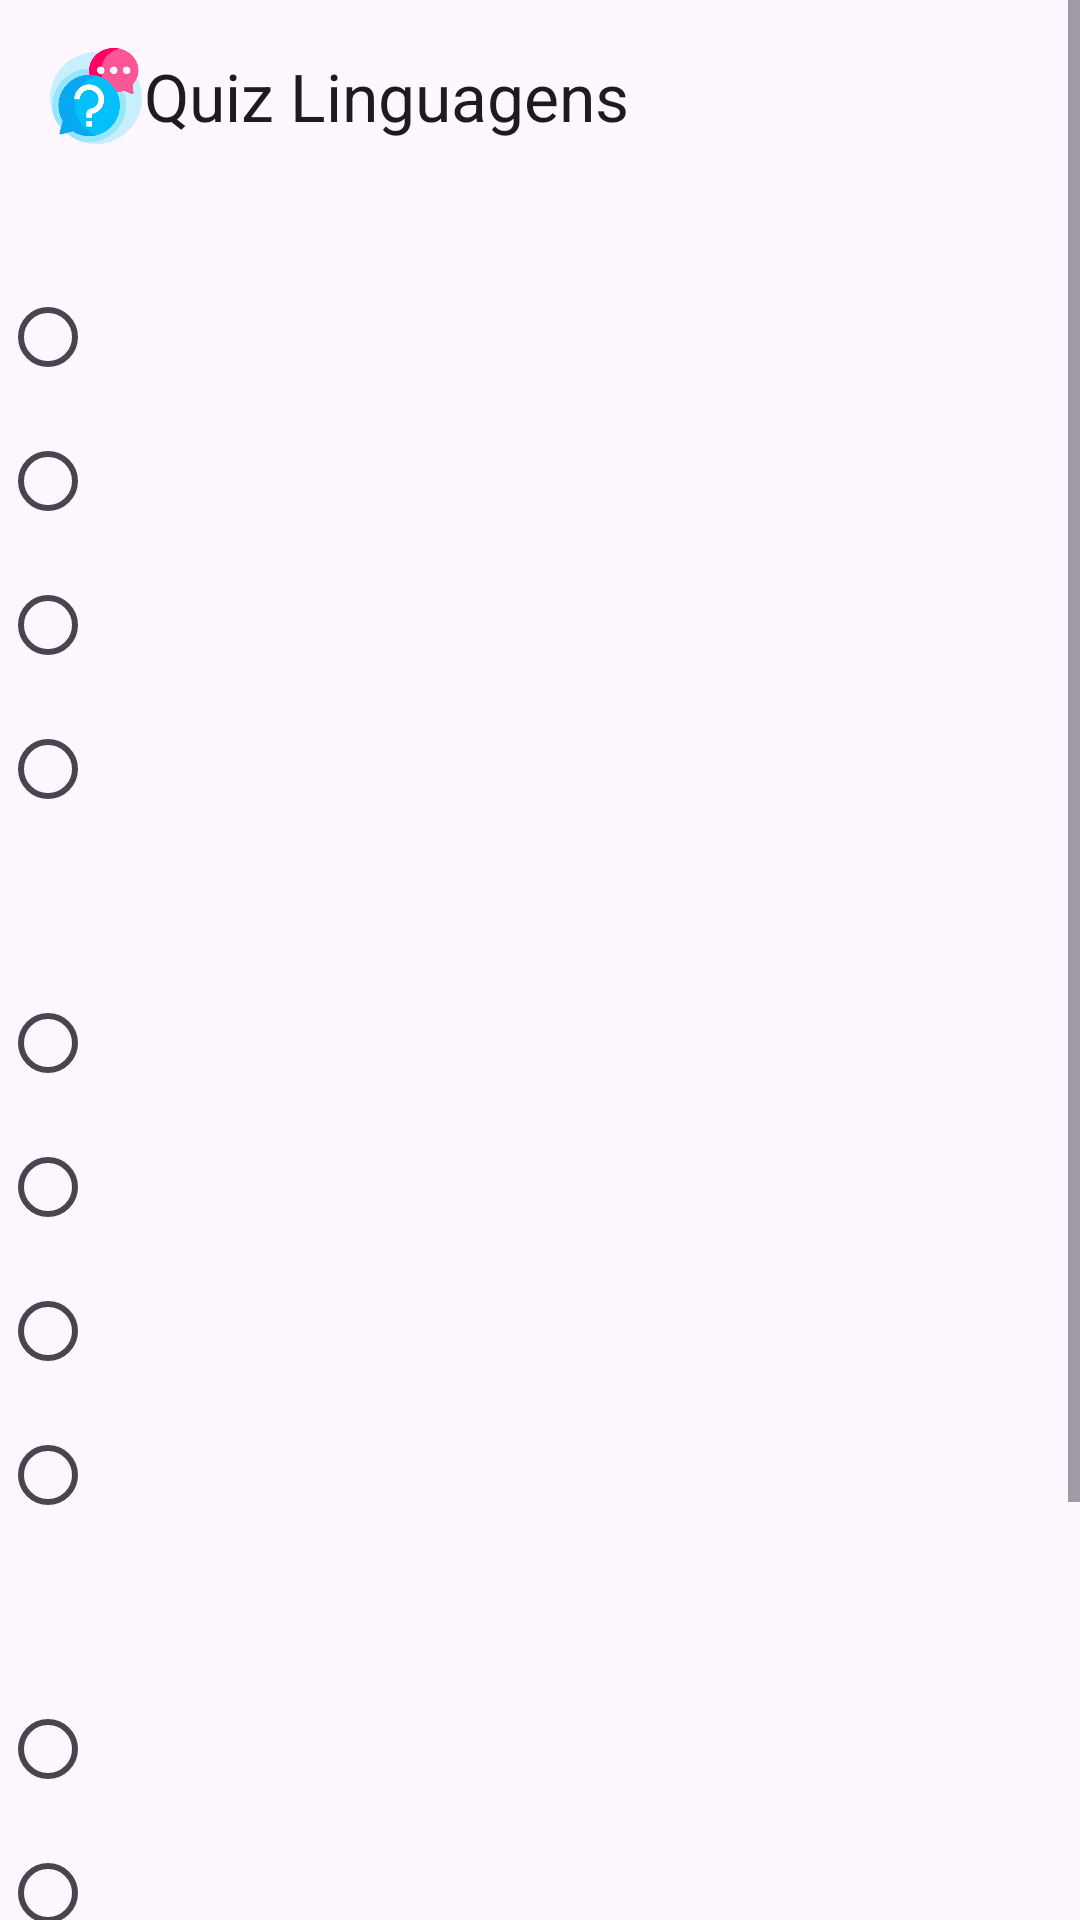

Icons on this 1080 x 1920 Android screen, each with the point to tap as point (x, y):
perguntas respostas: point (96, 96)
